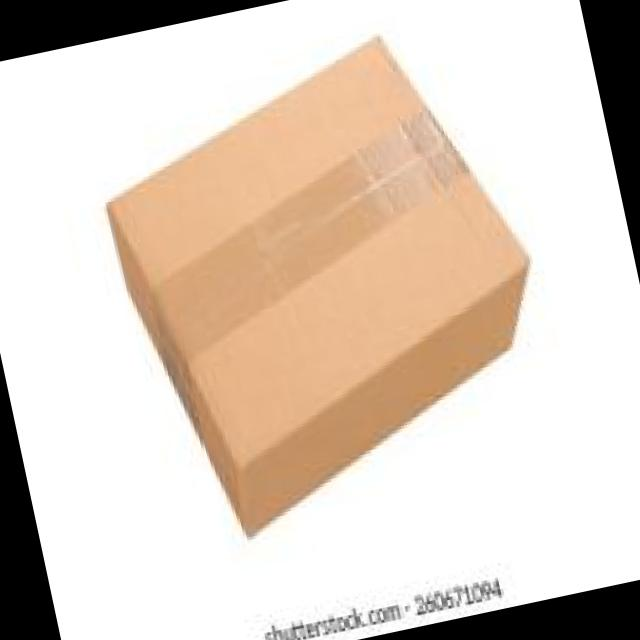box: (104, 36, 532, 544)
